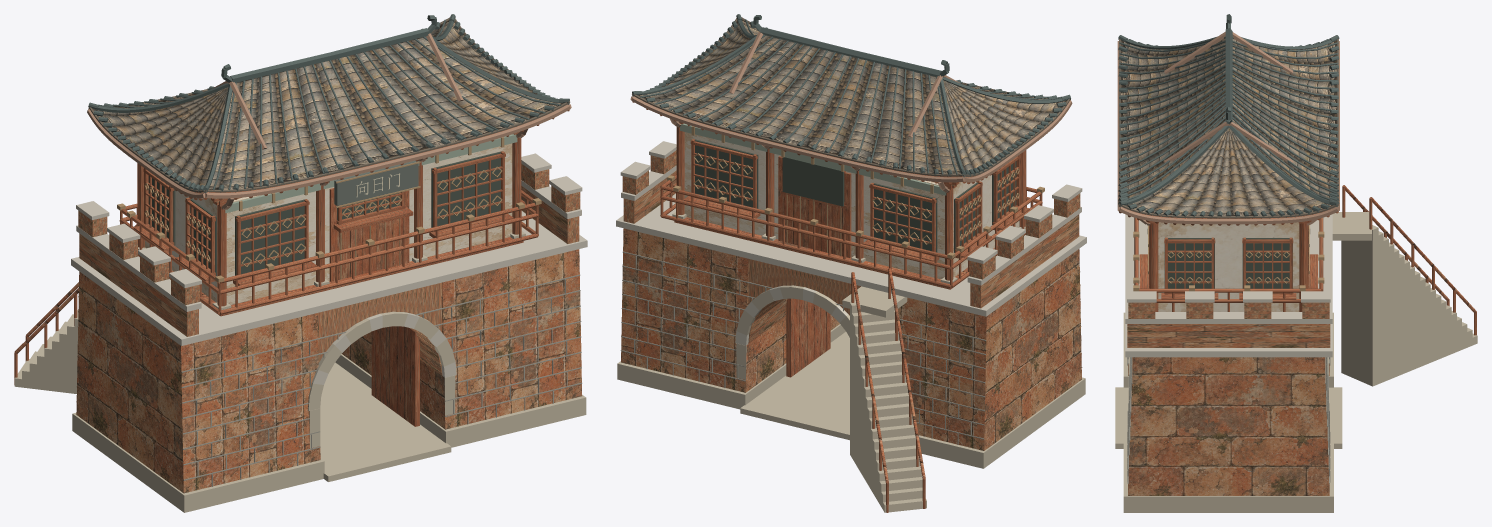
3 renders of one model, left to right at view 1: azimuth 30°, elevation 25°; view 2: azimuth 150°, elevation 25°; view 3: azimuth 270°, elevation 25°, orthographic. The views are drawn at different scales.
Visible parts, largest first — view 1: xiangrimen__painted_city_brick, xiangrimen__painted_cedar, xiangrimen__painted_roof, xiangrimen__warm_limestone, xiangrimen__stone_cap, xiangrimen__tile_ridges, xiangrimen__painted_plaster, xiangrimen__deep_recess, xiangrimen__mortar_ink, xiangrimen__timber_highlight, xiangrimen__gate_plaque, xiangrimen__chibi_ink (+1 smaller); view 2: xiangrimen__painted_city_brick, xiangrimen__painted_cedar, xiangrimen__painted_roof, xiangrimen__warm_limestone, xiangrimen__stone_cap, xiangrimen__tile_ridges, xiangrimen__deep_recess, xiangrimen__painted_plaster, xiangrimen__mortar_ink, xiangrimen__timber_highlight, xiangrimen__chibi_celadon, xiangrimen__chibi_ink; view 3: xiangrimen__painted_city_brick, xiangrimen__painted_roof, xiangrimen__warm_limestone, xiangrimen__tile_ridges, xiangrimen__painted_cedar, xiangrimen__stone_cap, xiangrimen__painted_plaster, xiangrimen__deep_recess, xiangrimen__chibi_ink, xiangrimen__timber_highlight, xiangrimen__mortar_ink.
Part boxes in pixels (left/top/right/bottom): xiangrimen__painted_city_brick: left=76, top=163, right=581, bottom=493; xiangrimen__painted_cedar: left=14, top=33, right=571, bottom=426; xiangrimen__painted_roof: left=93, top=20, right=563, bottom=189; xiangrimen__warm_limestone: left=14, top=231, right=586, bottom=512; xiangrimen__stone_cap: left=71, top=153, right=587, bottom=384; xiangrimen__tile_ridges: left=88, top=14, right=569, bottom=192; xiangrimen__painted_plaster: left=145, top=143, right=512, bottom=304; xiangrimen__deep_recess: left=148, top=151, right=501, bottom=275; xiangrimen__mortar_ink: left=76, top=274, right=582, bottom=486; xiangrimen__timber_highlight: left=117, top=106, right=541, bottom=282; xiangrimen__gate_plaque: left=334, top=161, right=418, bottom=205; xiangrimen__chibi_ink: left=88, top=17, right=570, bottom=417; xiangrimen__painted_city_brick: left=621, top=150, right=1081, bottom=450; xiangrimen__painted_cedar: left=630, top=31, right=1072, bottom=512; xiangrimen__painted_roof: left=638, top=19, right=1067, bottom=174; xiangrimen__warm_limestone: left=617, top=212, right=1085, bottom=512; xiangrimen__stone_cap: left=616, top=141, right=1086, bottom=345; xiangrimen__tile_ridges: left=632, top=14, right=1070, bottom=176; xiangrimen__deep_recess: left=695, top=139, right=1016, bottom=252; xiangrimen__painted_plaster: left=684, top=132, right=1019, bottom=279; xiangrimen__mortar_ink: left=620, top=251, right=1082, bottom=444; xiangrimen__timber_highlight: left=667, top=97, right=1044, bottom=258; xiangrimen__chibi_celadon: left=680, top=123, right=946, bottom=195; xiangrimen__chibi_ink: left=632, top=17, right=1070, bottom=337; xiangrimen__painted_city_brick: left=1127, top=302, right=1330, bottom=495; xiangrimen__painted_roof: left=1121, top=38, right=1336, bottom=215; xiangrimen__warm_limestone: left=1115, top=212, right=1477, bottom=512; xiangrimen__tile_ridges: left=1118, top=14, right=1339, bottom=216; xiangrimen__painted_cedar: left=1117, top=31, right=1476, bottom=335; xiangrimen__stone_cap: left=1125, top=214, right=1332, bottom=390; xiangrimen__painted_plaster: left=1158, top=222, right=1299, bottom=311; xiangrimen__deep_recess: left=1164, top=238, right=1292, bottom=288; xiangrimen__chibi_ink: left=1119, top=38, right=1338, bottom=218; xiangrimen__timber_highlight: left=1133, top=138, right=1324, bottom=291; xiangrimen__mortar_ink: left=1127, top=357, right=1330, bottom=483.
Size of the model in its own units: 11.72 by 10.57 by 9.65.
Materials: 14 (4 with a texture image).
